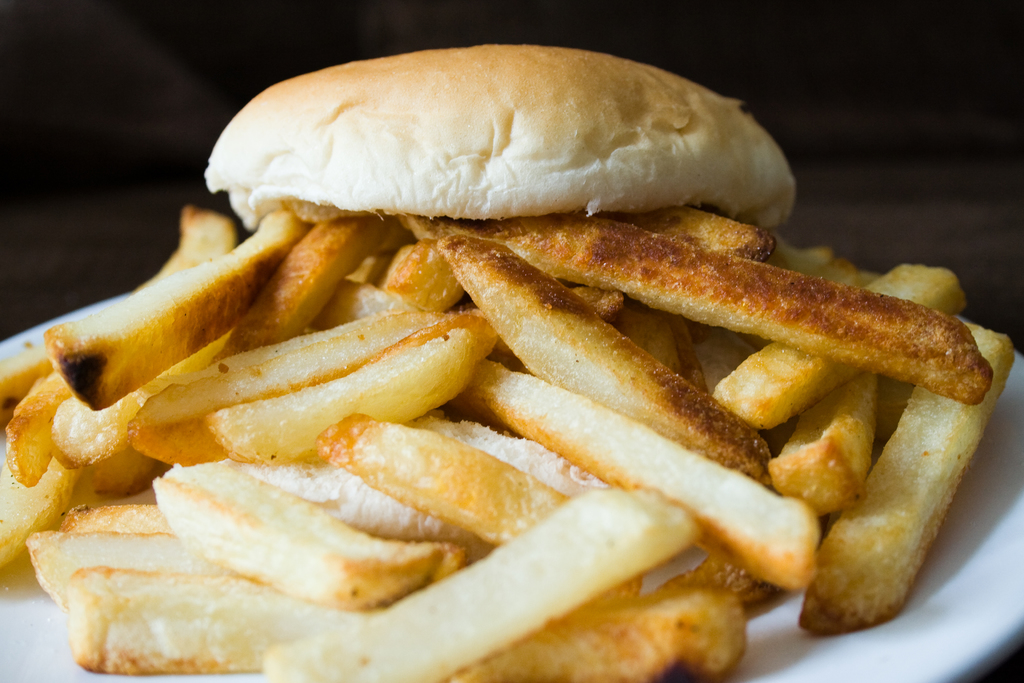French fries: (0, 123, 1001, 656)
